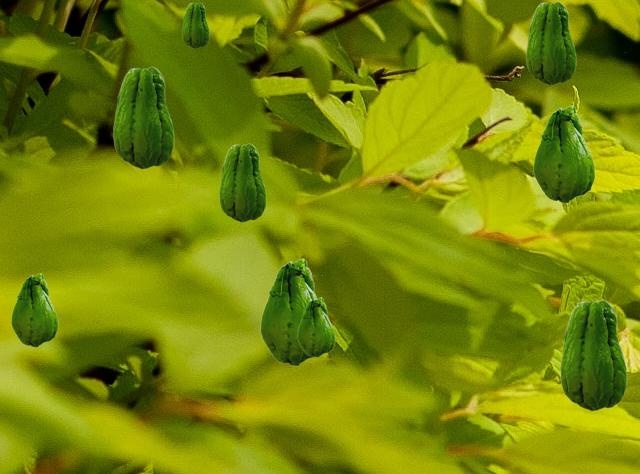sayote: (560, 299, 626, 410), (113, 66, 173, 168), (260, 258, 317, 365), (533, 105, 594, 202), (526, 1, 575, 84), (219, 143, 265, 221), (11, 273, 57, 346), (297, 297, 334, 356), (182, 2, 208, 47)
